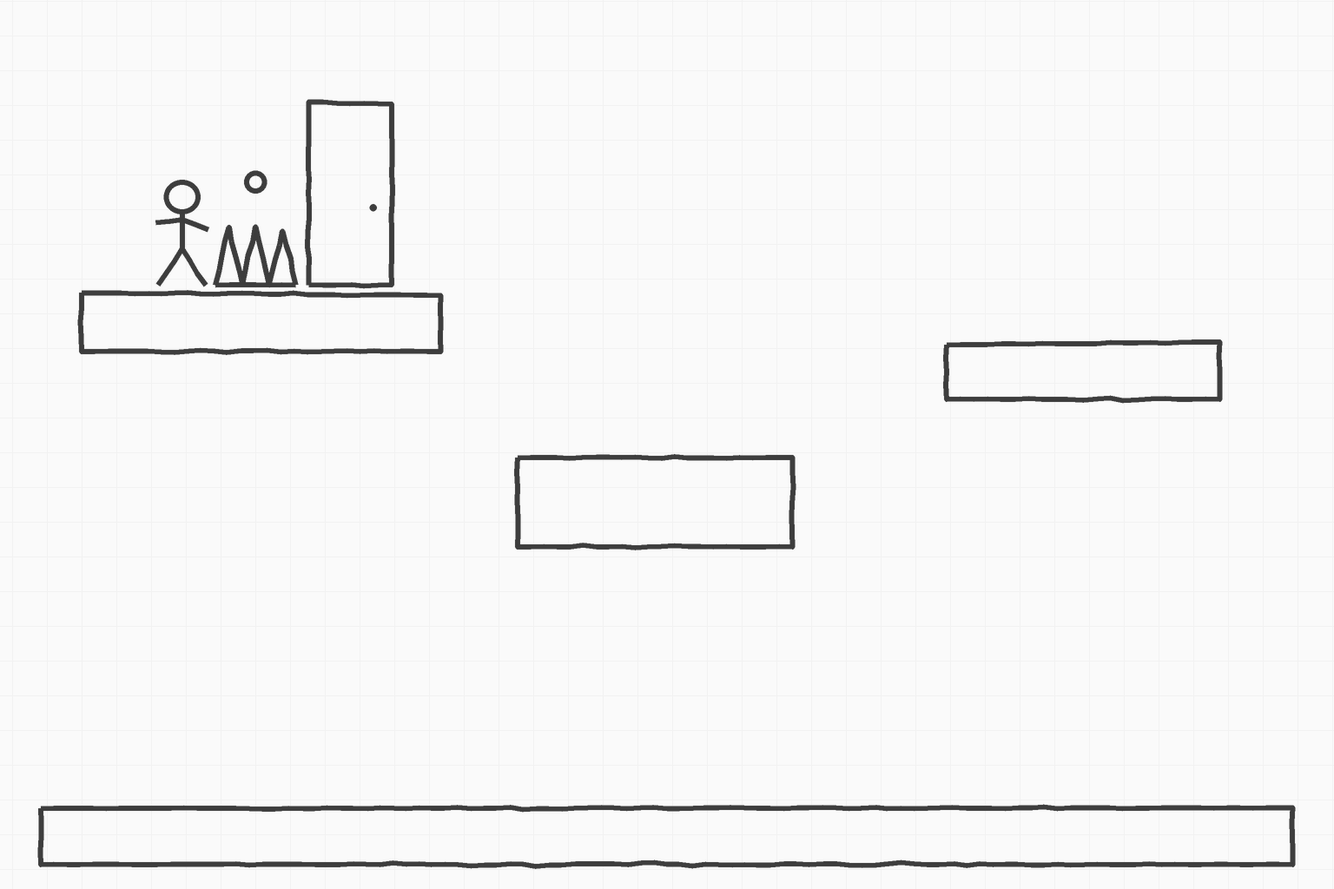collectible: (833, 286, 893, 346), (274, 292, 327, 341)
exit: (982, 263, 1104, 448)
player: (246, 567, 336, 715)
spikes: (723, 378, 882, 448), (374, 327, 500, 400)
terrain: (61, 695, 1285, 808), (681, 428, 1151, 517), (216, 381, 518, 461)
